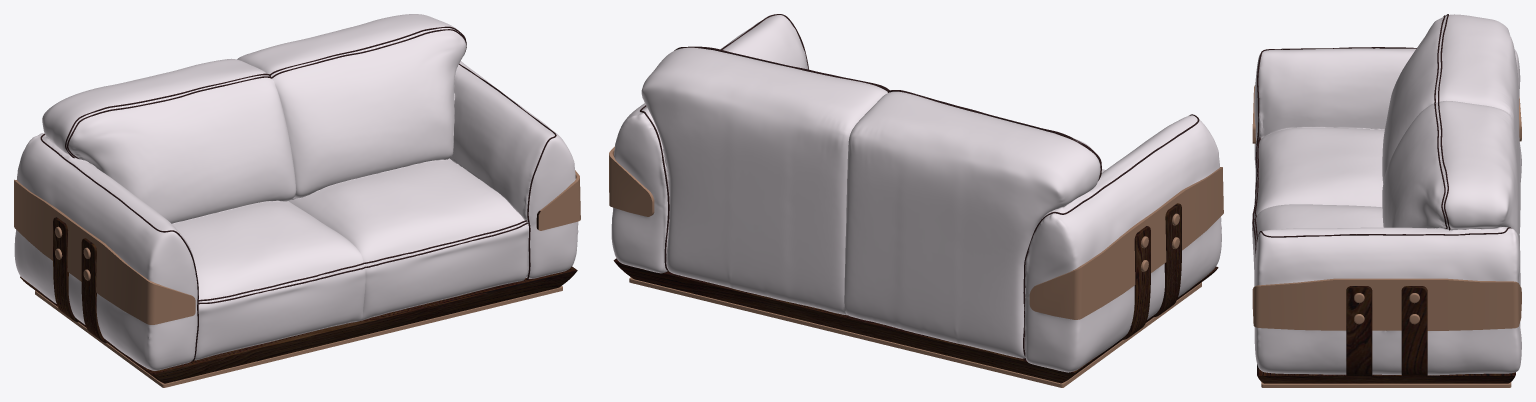
File: St_Hilker_Dusseldorf_2_Seater.glb
3 renders of one model, left to right at view 1: azimuth 30°, elevation 25°; view 2: azimuth 150°, elevation 25°; view 3: azimuth 270°, elevation 25°, orthographic. The views are drawn at different scales.
Parts seen in each view (by area): view 1: Dusseldorf_Sofa_2STR; view 2: Dusseldorf_Sofa_2STR; view 3: Dusseldorf_Sofa_2STR.
Boxes of the visible parts, x1,y1,x2,y2 form: Dusseldorf_Sofa_2STR: [14, 14, 580, 387]; Dusseldorf_Sofa_2STR: [609, 14, 1223, 387]; Dusseldorf_Sofa_2STR: [1252, 14, 1521, 387].
Bounding box in the file's own units: 2.03 × 0.88 × 1.08.
4 materials, 1 textured.
